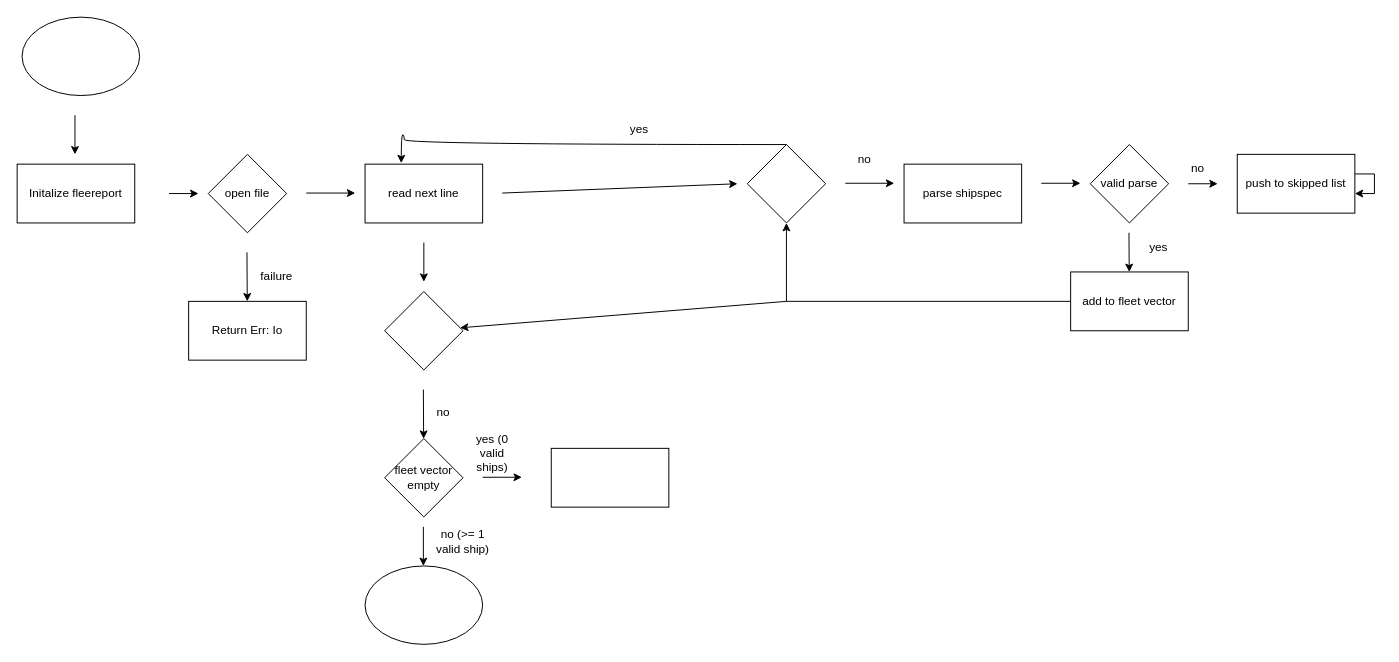
Some shapes in this 1399 by 662 pixel diagram are drawn without their labels. Each missing label, with the centre of its shape:
Empty or comment: pixel 786 183
end: pixel 423 604
more lines?: pixel 423 330
Return Err: Noship: pixel 609 477
start input: fleet path: pixel 80 56
